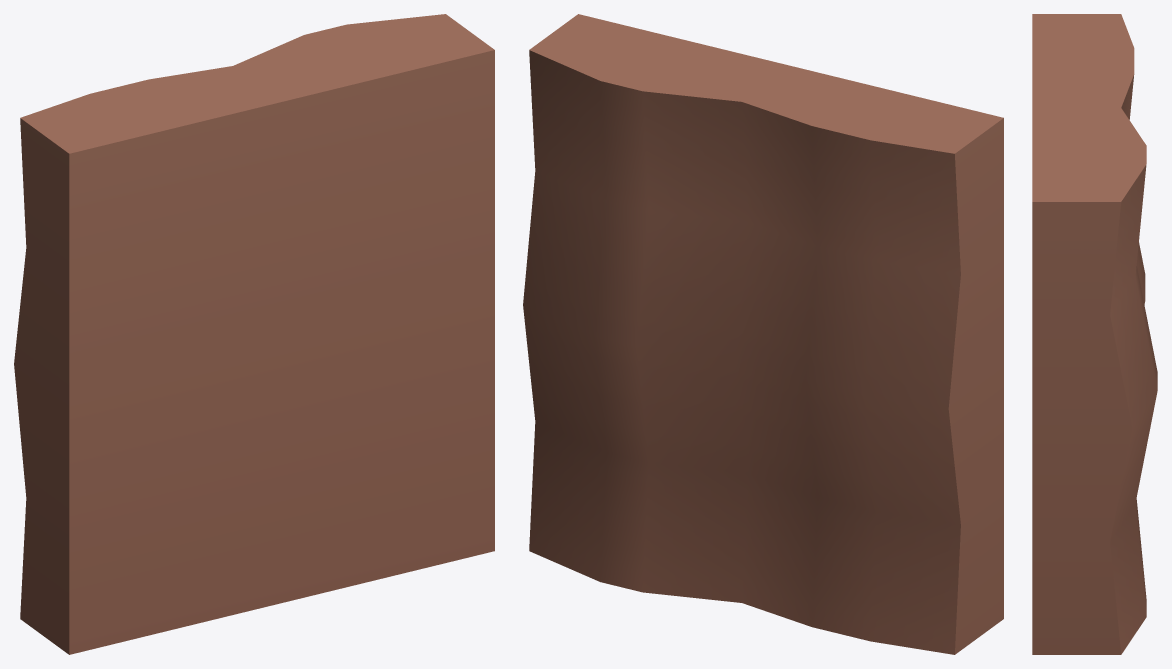
The model's file is template-wall-top.glb.
3 renders of one model, left to right at view 1: azimuth 30°, elevation 25°; view 2: azimuth 150°, elevation 25°; view 3: azimuth 270°, elevation 25°, orthographic. The views are drawn at different scales.
Visible parts, largest first — view 1: template-wall-top; view 2: template-wall-top; view 3: template-wall-top.
Boxes of the visible parts, box(x1,y1,x2,y2) form: template-wall-top: box(14, 14, 494, 654); template-wall-top: box(523, 14, 1003, 654); template-wall-top: box(1032, 14, 1157, 654).
Bounding box in the file's own units: 4 × 4.5 × 1.13.
1 material, 1 textured.
